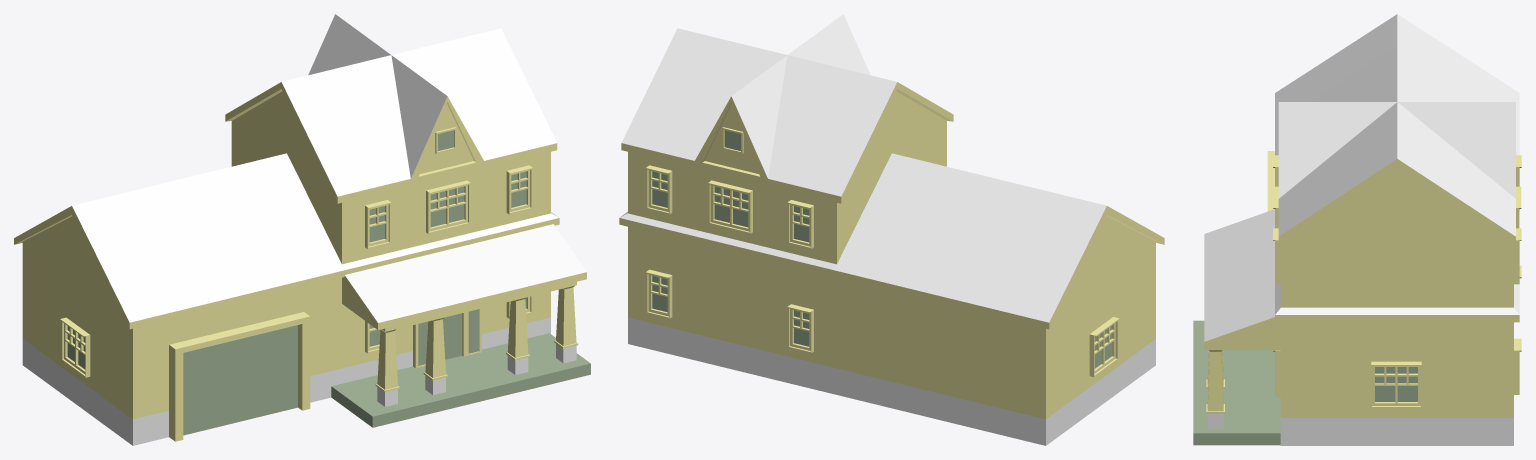
The picture shows the model from 3 angles, left to right: view 1: azimuth 30°, elevation 25°; view 2: azimuth 150°, elevation 25°; view 3: azimuth 270°, elevation 25°; orthographic projection. The views are drawn at different scales.
Parts seen in each view (by area): view 1: ev1; view 2: ev1; view 3: ev1.
Boxes of the visible parts, x1,y1,x2,y2 form: ev1: [14, 14, 590, 445]; ev1: [619, 14, 1164, 445]; ev1: [1193, 14, 1521, 445].
Bounding box in the file's own units: 9.35 × 5.69 × 5.84.
